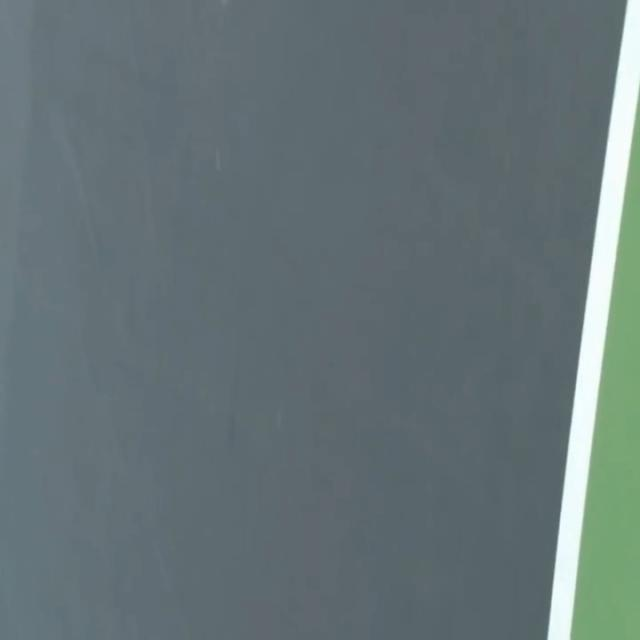right: (547, 0, 639, 639)
